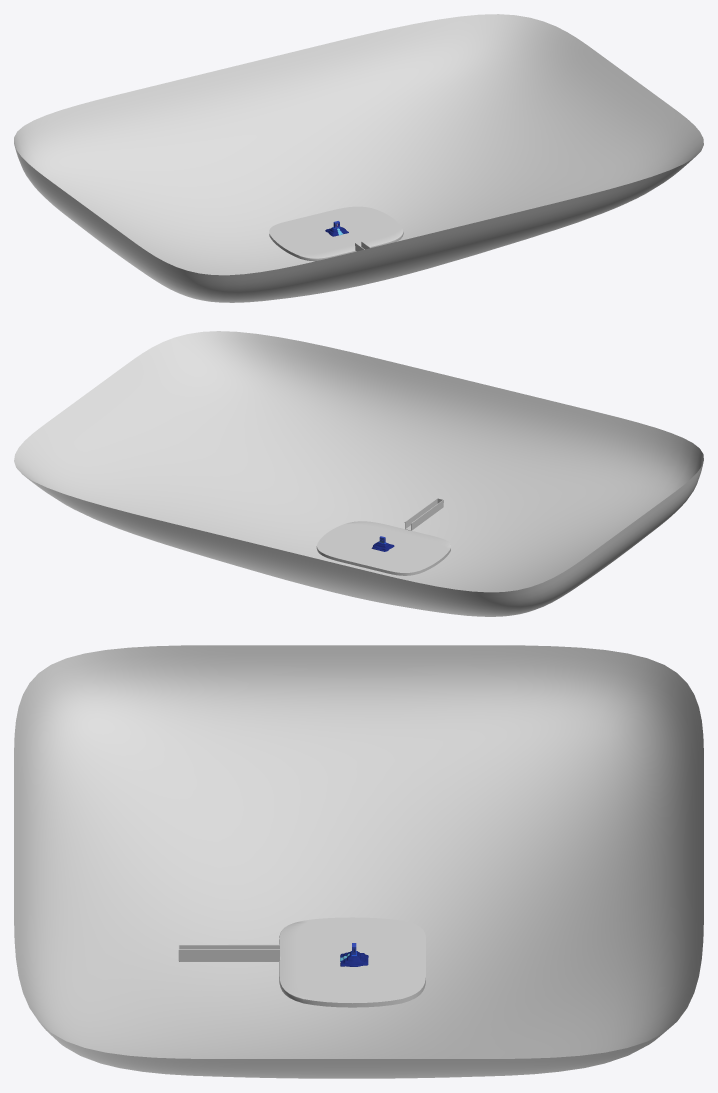
File: blueroom.fbx
The picture shows the model from 3 angles, top to bottom: view 1: azimuth 30°, elevation 25°; view 2: azimuth 150°, elevation 25°; view 3: azimuth 270°, elevation 25°; orthographic projection. The views are drawn at different scales.
Parts seen in each view (by area): view 1: Plane.001, ground; view 2: Plane.001, ground, PATH.001; view 3: Plane.001, ground, PATH.001.
Part boxes in pixels (left/top/right/bottom): Plane.001: left=14, top=14, right=703, bottom=302; ground: left=269, top=206, right=403, bottom=261; Plane.001: left=14, top=331, right=703, bottom=616; ground: left=316, top=521, right=450, bottom=575; PATH.001: left=404, top=498, right=443, bottom=530; Plane.001: left=14, top=645, right=703, bottom=1078; ground: left=279, top=917, right=425, bottom=1007; PATH.001: left=178, top=944, right=279, bottom=961.
Size of the model in its own units: 12068 by 2252 by 8502.
